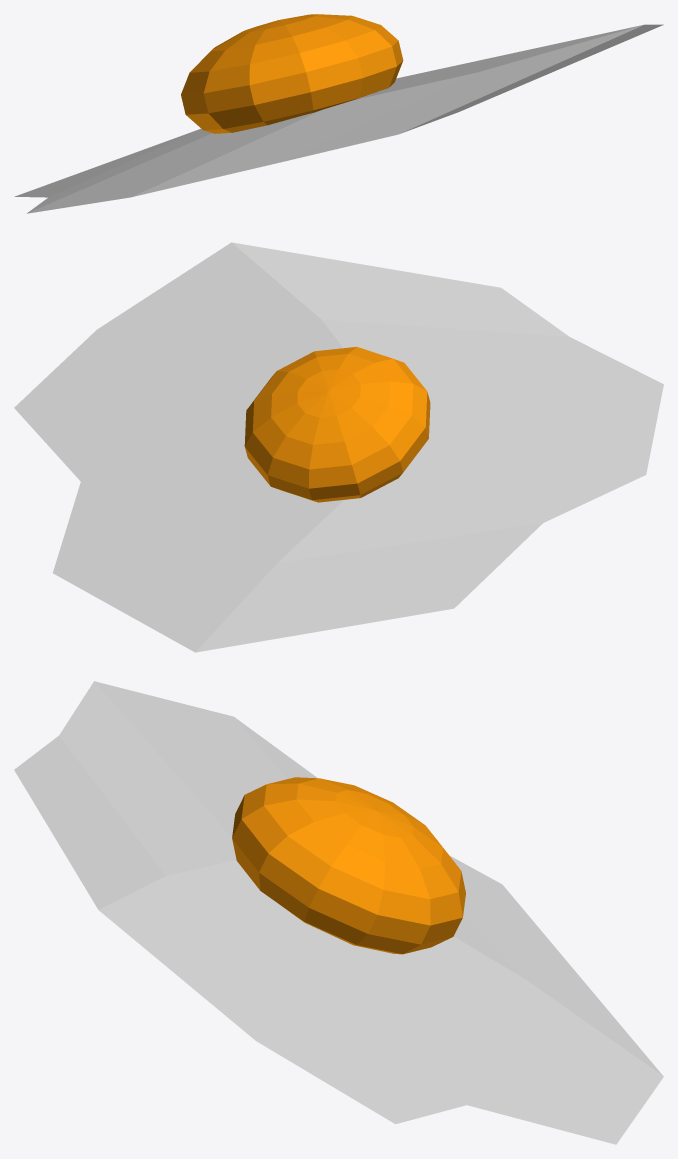
3 views of the same model, one above another, from view 1: azimuth 30°, elevation 25°; view 2: azimuth 150°, elevation 25°; view 3: azimuth 270°, elevation 25° (orthographic). The views are drawn at different scales.
Visible parts, largest first — view 1: group_12520585; view 2: group_12520585; view 3: group_12520585.
Boxes of the visible parts, left/top/right/bottom form: group_12520585: left=14, top=14, right=663, bottom=213; group_12520585: left=14, top=242, right=663, bottom=652; group_12520585: left=14, top=681, right=663, bottom=1144.
Bounding box in the file's own units: 33.33 × 11.79 × 24.7.
